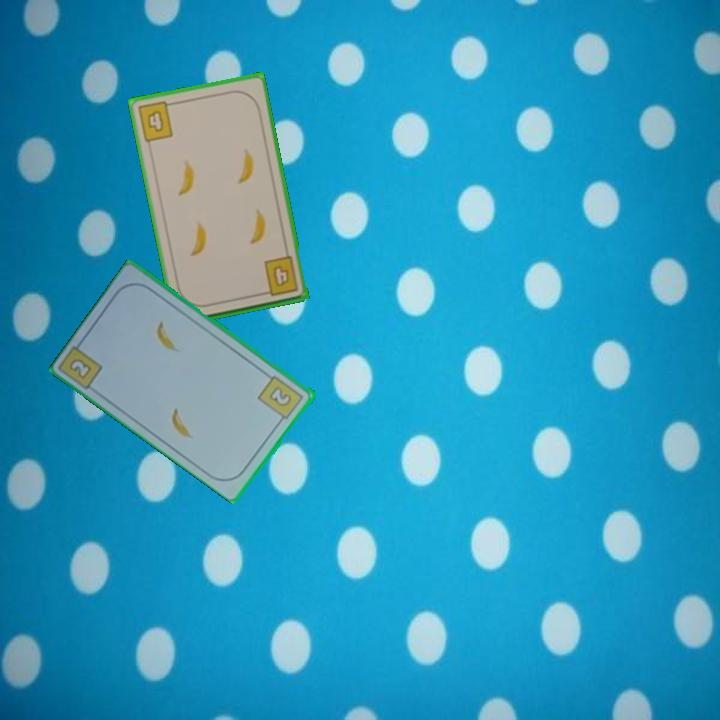2b: (255, 372, 307, 426), (66, 355, 95, 382)
4b: (134, 98, 177, 145), (258, 253, 301, 299)
